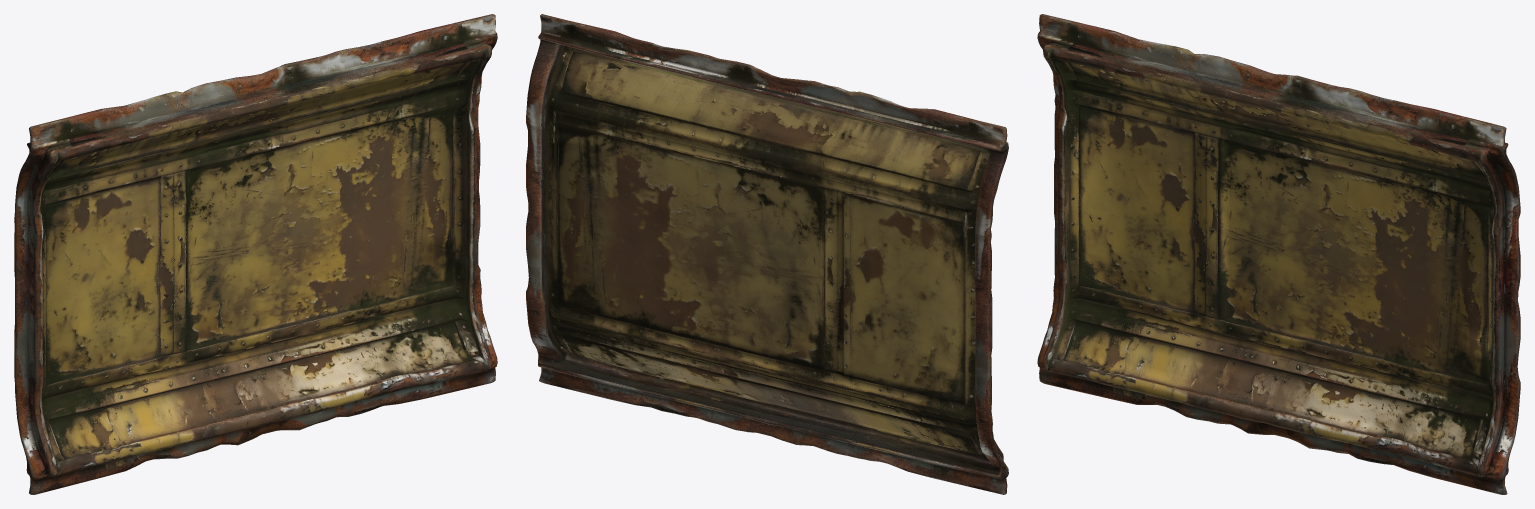
The model's file is Meshy_AI_Rusted_Panel_1119013514_texture.glb.
3 renders of one model, left to right at view 1: azimuth 30°, elevation 25°; view 2: azimuth 150°, elevation 25°; view 3: azimuth 330°, elevation 25°, orthographic.
Bounding box in the file's own units: 1.91 × 1.44 × 0.184.
Materials: 1 (1 with a texture image).
